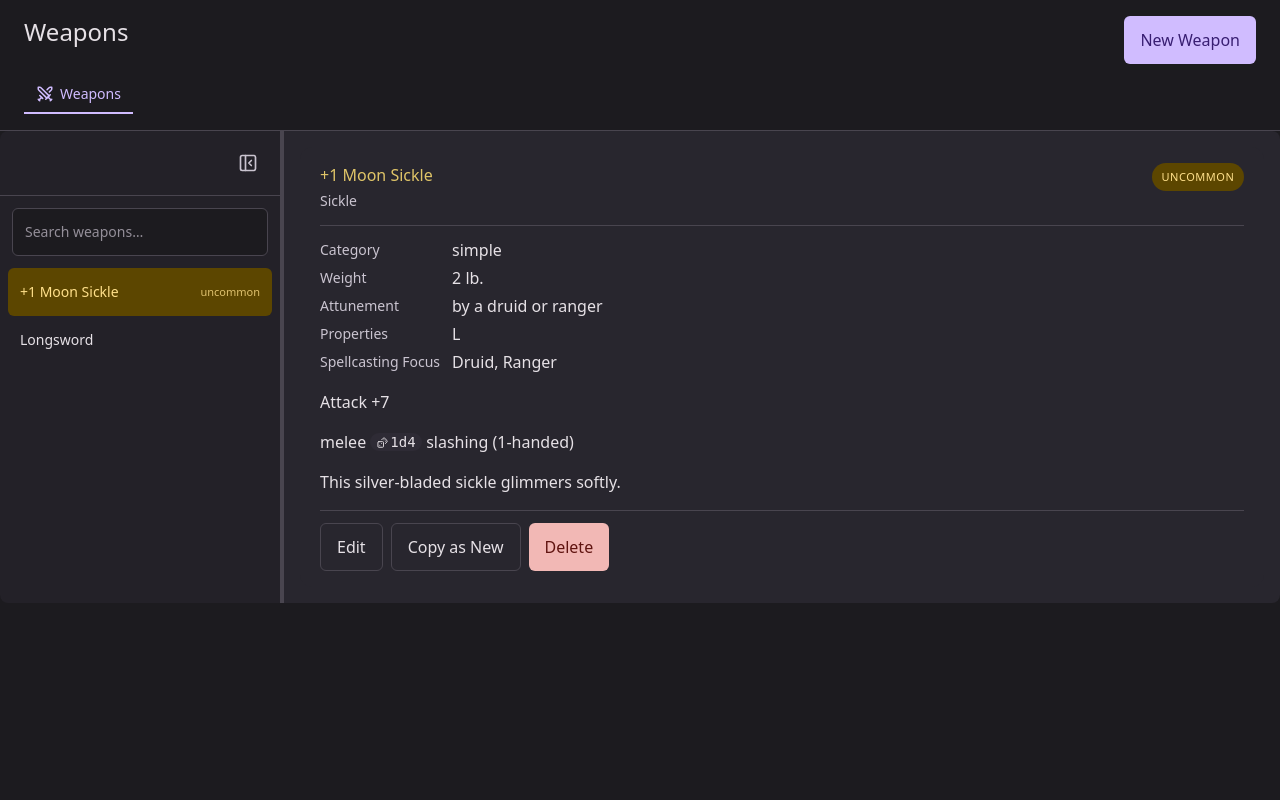
Scenario: WeaponBrowserPage › renders quick rules before the long weapon text
The width and height of the screenshot is (1280, 800).
Expected: the text "Longsword" is shown, [20,330,93,350]
Click the button "Longsword".
click(57, 340)  # box [8,316,272,364]
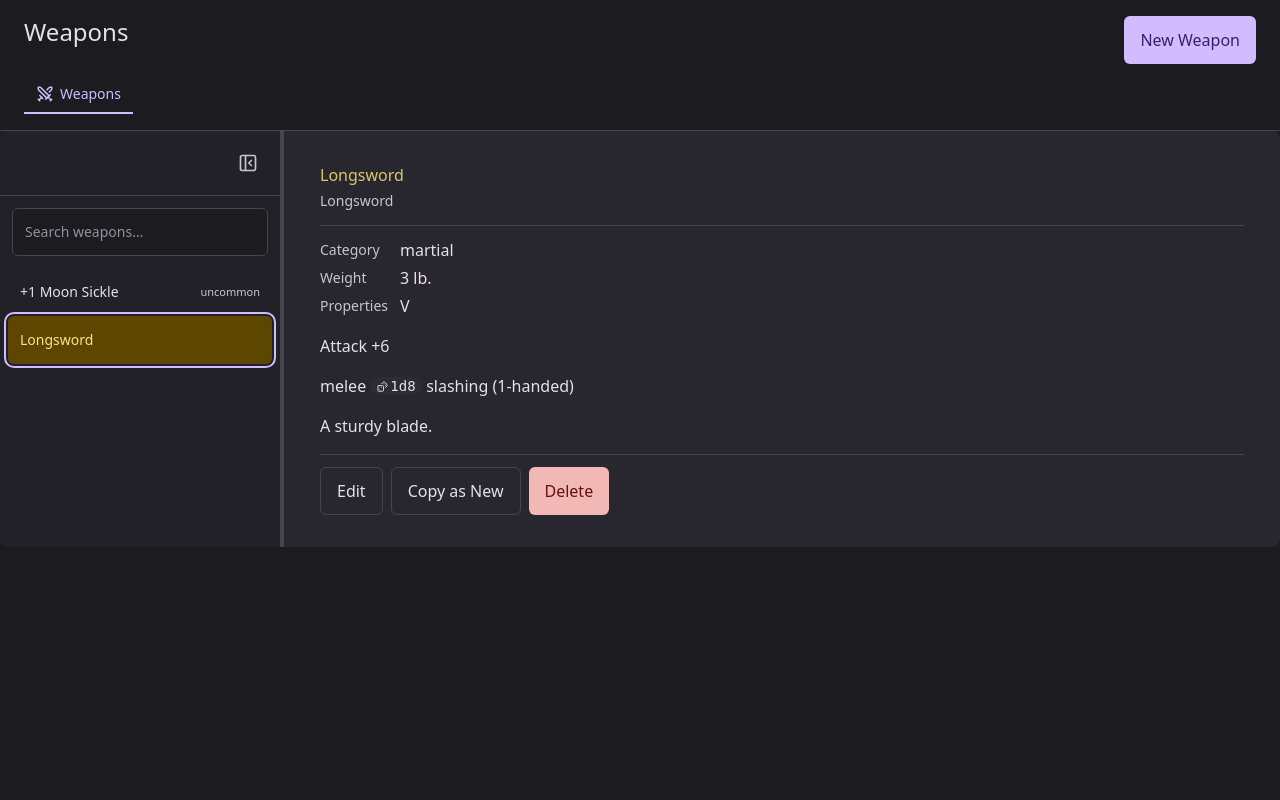
Expected: the text "Attack +6" is shown, [320,335,390,357]
